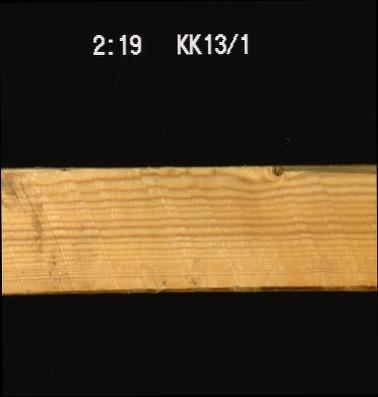edge_knot: (269, 164, 284, 182)
wave: (47, 278, 373, 293), (281, 163, 375, 175)
